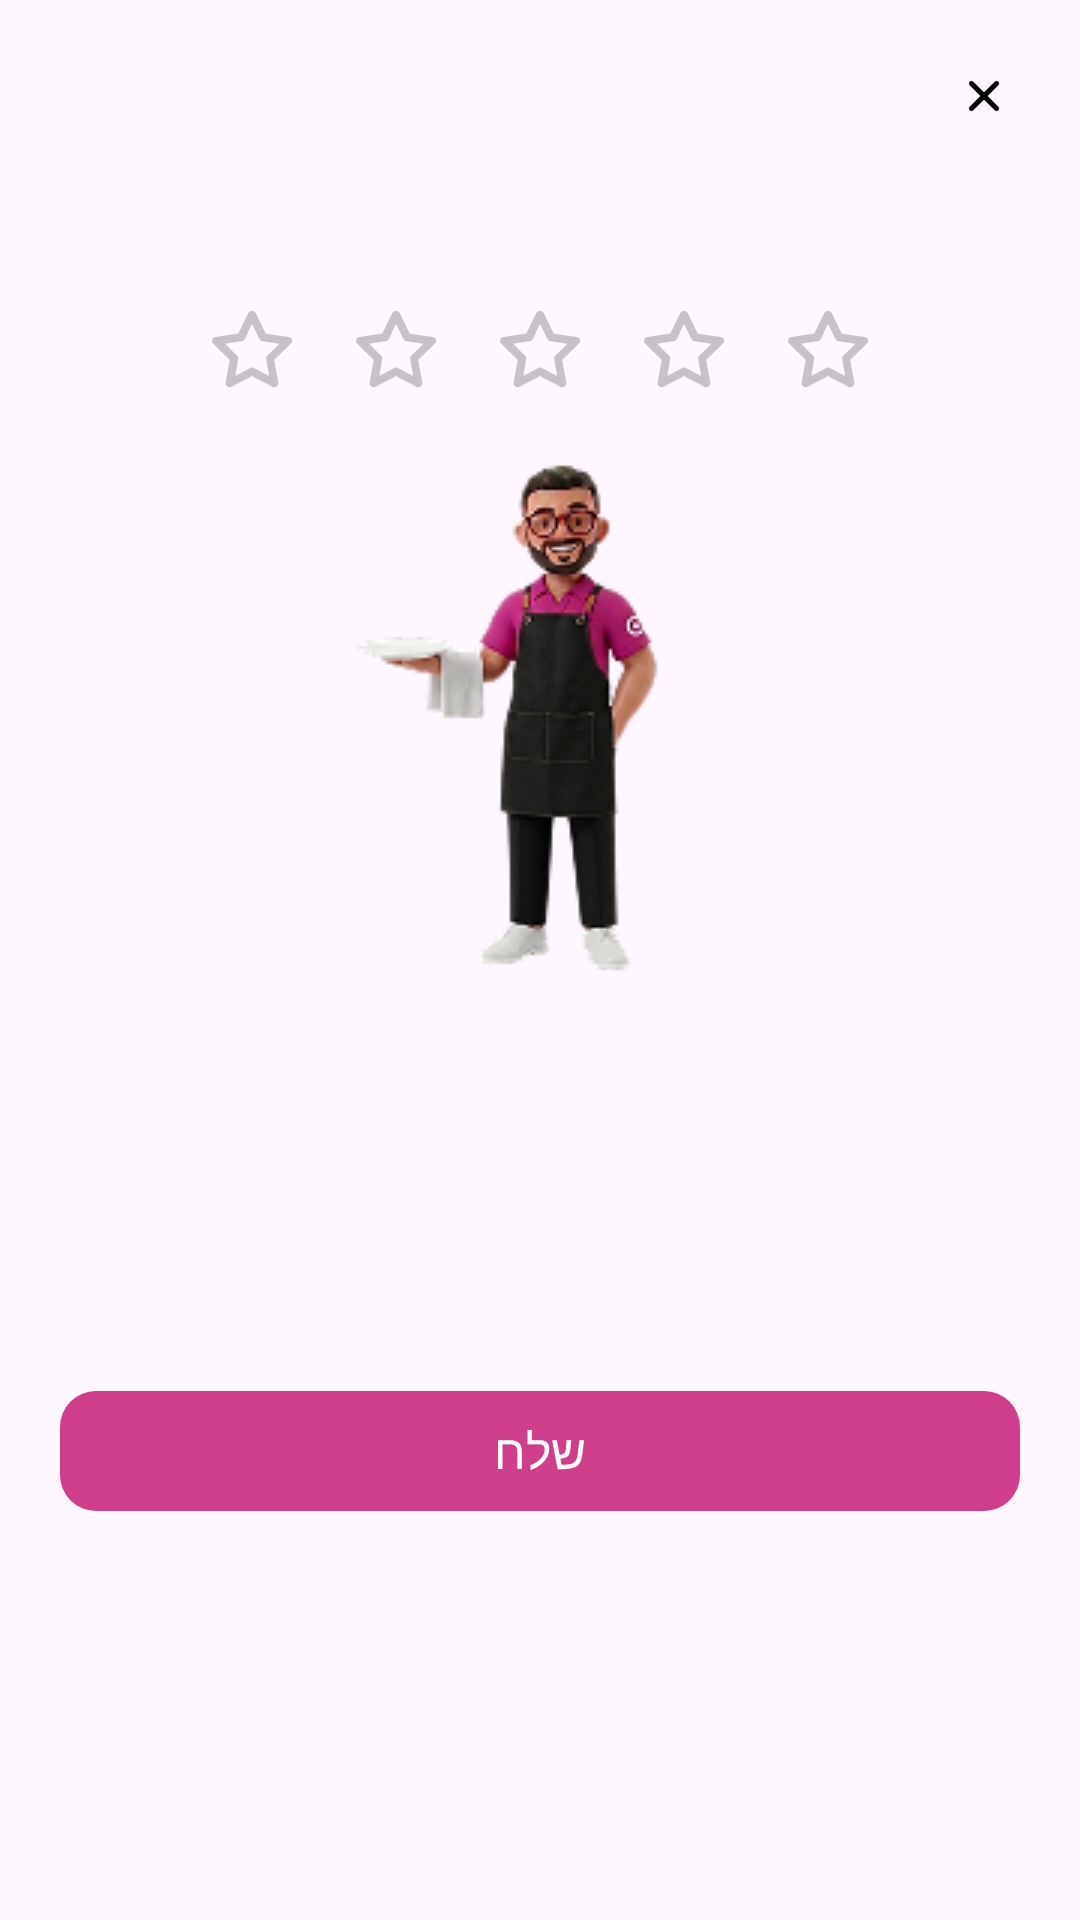

Screen size 1080px x 1920px. Icon name, then its box in pixels as (x1, y1, x2, y2):
close: (969, 81, 999, 111)
star: (212, 311, 292, 387), (356, 311, 436, 387), (500, 311, 580, 387), (644, 311, 724, 387), (788, 311, 868, 387)
